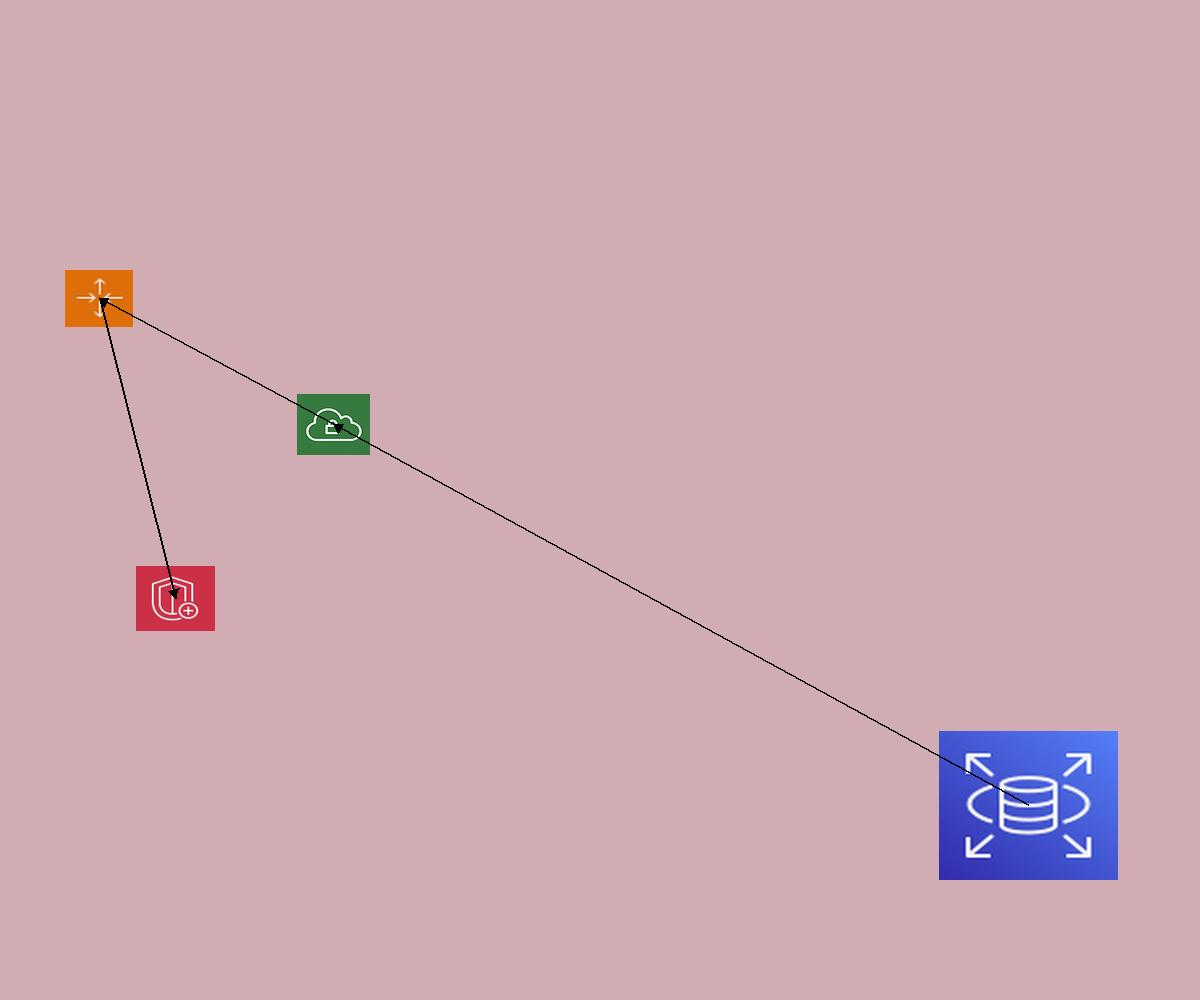AWS-Private_vpc: (297, 394, 370, 455)
AWS-RDS: (939, 731, 1118, 880)
AWS-Scaling-group: (65, 270, 133, 327)
AWS-Shield: (136, 566, 215, 631)
